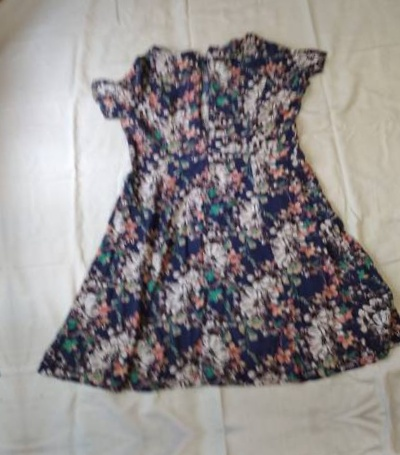Dress: (10, 9, 400, 413), (56, 446, 400, 455)
